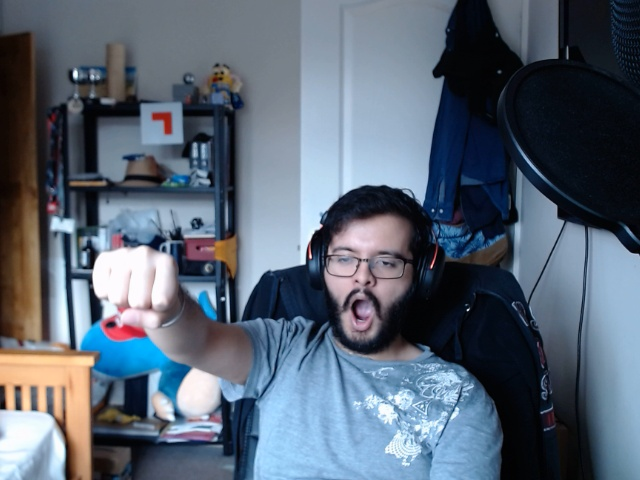Yes: (78, 239, 189, 338)
